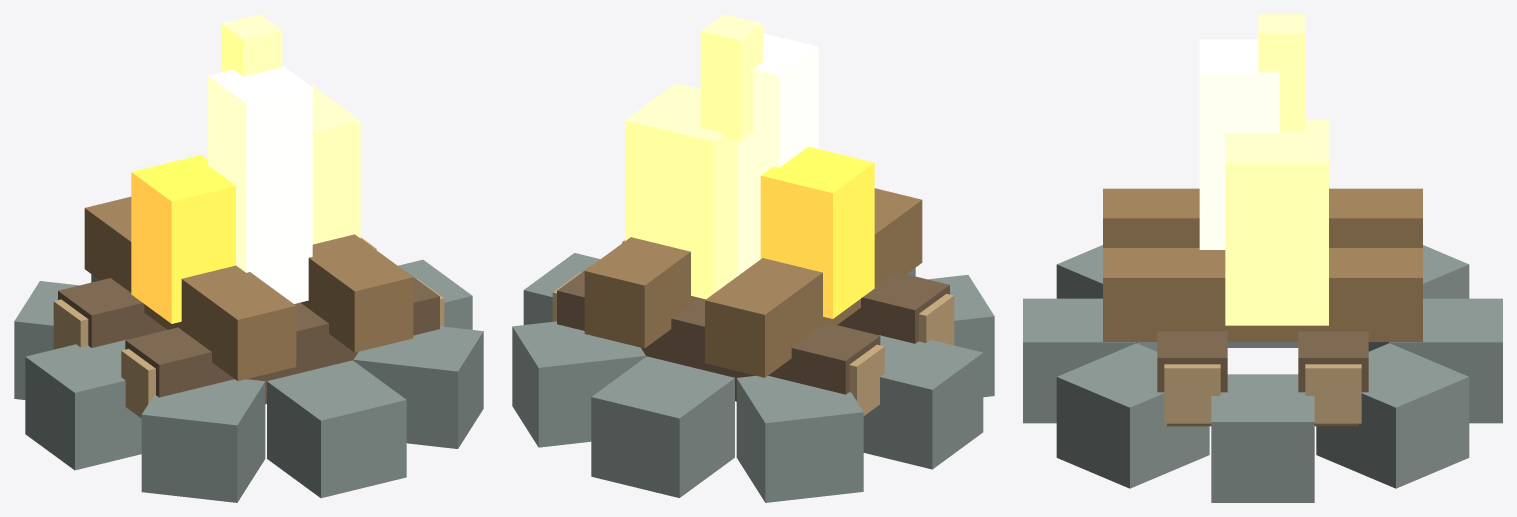
The model's file is campfire.glb.
3 views of the same model, side by side, from view 1: azimuth 30°, elevation 25°; view 2: azimuth 150°, elevation 25°; view 3: azimuth 270°, elevation 25° (orthographic). The views are drawn at different scales.
Visible parts, largest first — view 1: fire.002, hearth_stone.006, cross_log, hearth_stone.005, fire, hearth_stone.004, hearth_stone.007, cross_log.001, log, fire.001, log.001, fire.003 (+4 smaller); view 2: fire.001, hearth_stone.002, cross_log, fire, hearth_stone.003, hearth_stone.004, hearth_stone.001, fire.002, cross_log.001, log.001, fire.003, log (+4 smaller); view 3: cross_log.001, fire.001, hearth_stone.001, hearth_stone.007, hearth_stone, cross_log, fire.002, hearth_stone.002, hearth_stone.006, fire.003, log_end.001, log_end.003 (+4 smaller).
Part boxes in pixels (x1,y1,x2,y2): fire.002: (208, 65, 312, 303); hearth_stone.006: (267, 360, 406, 498); cross_log: (84, 196, 296, 380); hearth_stone.005: (141, 379, 265, 502); fire: (131, 155, 235, 323); hearth_stone.004: (25, 339, 141, 470); hearth_stone.007: (353, 326, 483, 448); cross_log.001: (300, 234, 413, 352); log: (125, 272, 439, 404); fire.001: (309, 84, 360, 244); log.001: (58, 239, 371, 347); fire.003: (221, 14, 282, 76); fire.001: (625, 83, 737, 299); hearth_stone.002: (591, 356, 734, 497); cross_log: (705, 188, 922, 377); fire: (760, 146, 874, 318); hearth_stone.003: (736, 375, 863, 502); hearth_stone.004: (863, 335, 983, 469); hearth_stone.001: (512, 321, 645, 447); fire.002: (737, 33, 818, 276); cross_log.001: (584, 237, 698, 348); log.001: (557, 265, 880, 401); fire.003: (700, 14, 763, 141); log: (837, 272, 949, 343); cross_log.001: (1103, 248, 1422, 341); fire.001: (1225, 120, 1328, 325); hearth_stone.001: (1316, 343, 1469, 488); hearth_stone.007: (1056, 343, 1209, 488); hearth_stone: (1211, 374, 1314, 502); cross_log: (1103, 188, 1422, 247); fire.002: (1199, 39, 1279, 249); hearth_stone.002: (1390, 298, 1502, 423); hearth_stone.006: (1023, 298, 1135, 423); fire.003: (1258, 14, 1305, 131); log_end.001: (1164, 364, 1220, 423); log_end.003: (1305, 364, 1361, 423).
Bounding box in the file's own units: 1.02 × 0.9 × 1.02.
